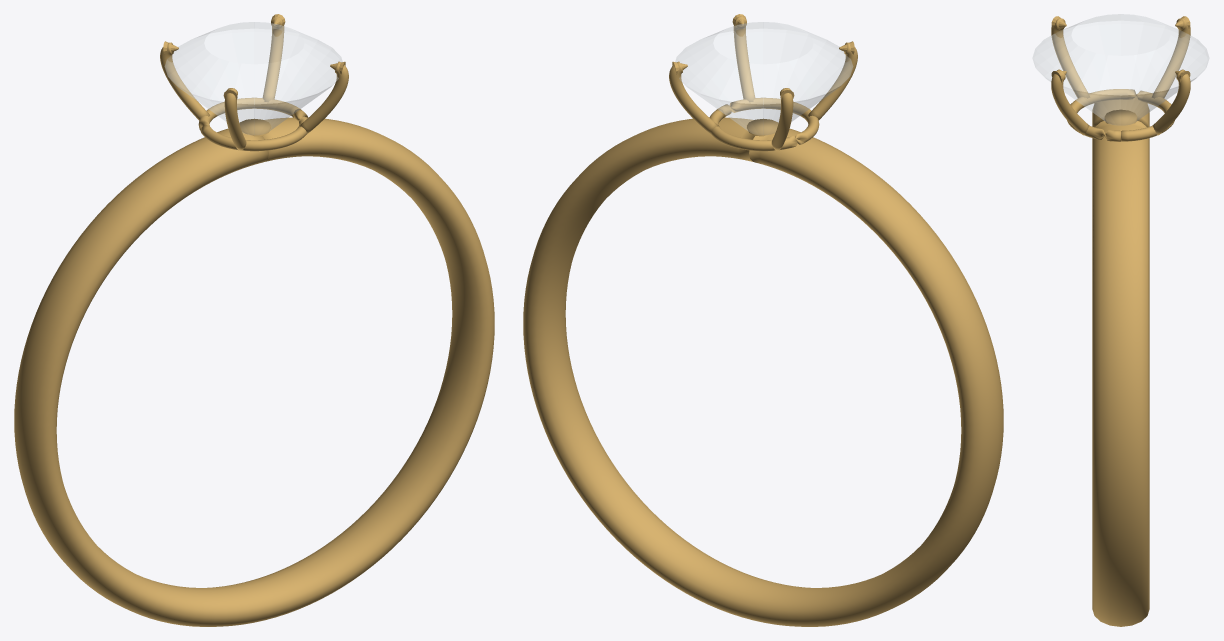
Rendered from settings-claw-prong.glb.
3 renders of one model, left to right at view 1: azimuth 30°, elevation 25°; view 2: azimuth 150°, elevation 25°; view 3: azimuth 270°, elevation 25°, orthographic.
Parts seen in each view (by area): view 1: Band, Gem, Lower gallery, Prong.001, Prong, Prong.003, Prong.002; view 2: Band, Gem, Lower gallery, Prong.002, Prong.003, Prong, Prong.001; view 3: Band, Gem, Lower gallery, Prong.001, Prong.002, Prong.003, Prong, Head stem.
Part boxes in pixels (box(x1,y1,x2,y2)): Band: box(14, 117, 494, 626); Gem: box(165, 22, 342, 134); Lower gallery: box(198, 97, 307, 151); Prong.001: box(160, 42, 209, 120); Prong: box(262, 16, 284, 102); Prong.003: box(298, 61, 348, 134); Prong.002: box(224, 88, 246, 150); Band: box(523, 117, 1003, 626); Gem: box(675, 22, 852, 134); Lower gallery: box(709, 97, 819, 151); Prong.002: box(808, 42, 857, 120); Prong.003: box(733, 16, 755, 102); Prong: box(669, 61, 719, 134); Prong.001: box(771, 88, 793, 150); Band: box(1092, 97, 1149, 626); Gem: box(1032, 14, 1209, 125); Lower gallery: box(1067, 89, 1174, 141); Prong.001: box(1152, 18, 1190, 98); Prong.002: box(1051, 18, 1089, 98); Prong.003: box(1051, 69, 1089, 135); Prong: box(1152, 69, 1190, 135); Head stem: box(1104, 109, 1137, 124).
Bounding box in the file's own units: 19.6 × 22.94 × 6.5.
